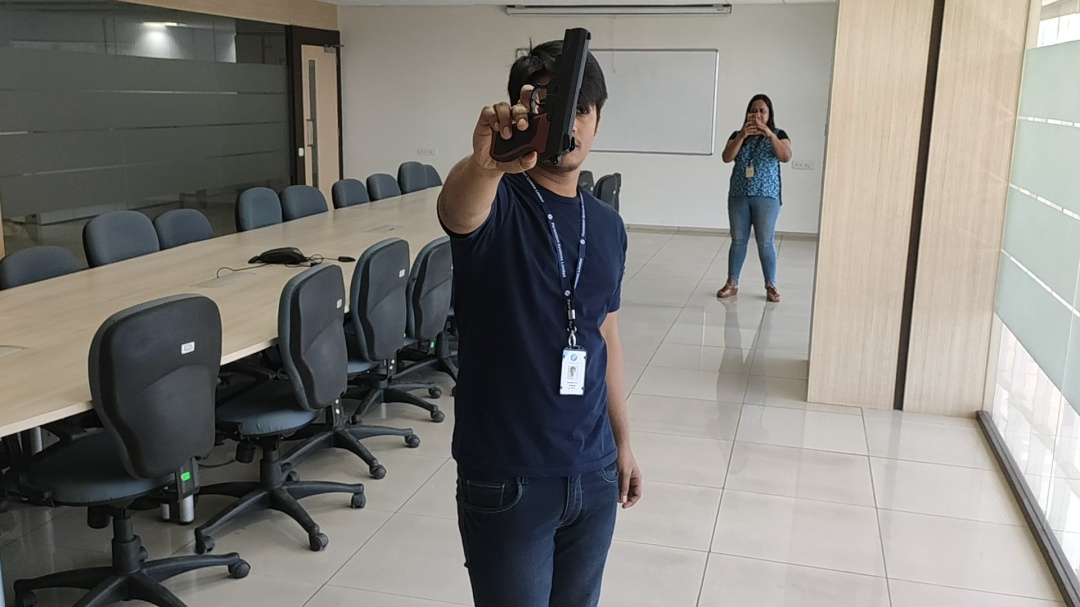gun: (537, 23, 597, 169)
